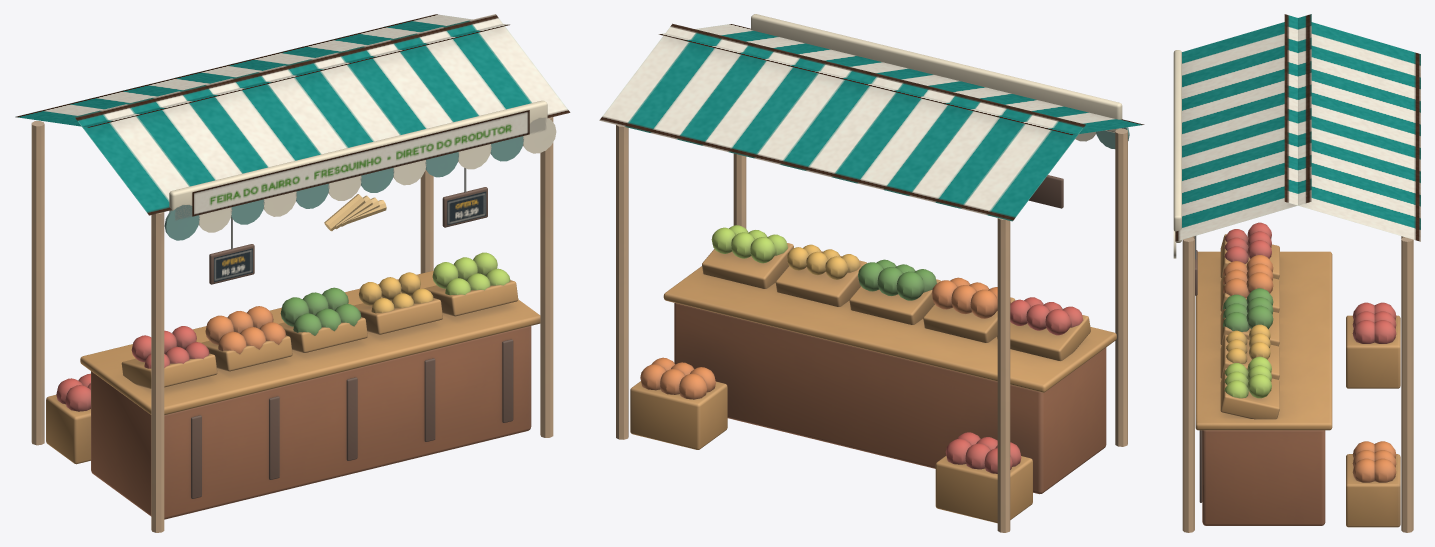
File: FairStallTeal.fbx
The picture shows the model from 3 angles, left to right: view 1: azimuth 30°, elevation 25°; view 2: azimuth 150°, elevation 25°; view 3: azimuth 270°, elevation 25°; orthographic projection. The views are drawn at different scales.
Parts seen in each view (by area): view 1: FairStallTeal; view 2: FairStallTeal; view 3: FairStallTeal.
Boxes of the visible parts, bbox=[...] form: FairStallTeal: bbox=[15, 14, 570, 532]; FairStallTeal: bbox=[599, 14, 1144, 532]; FairStallTeal: bbox=[1173, 14, 1420, 532].
Size of the model in its own units: 325 by 271 by 181.
